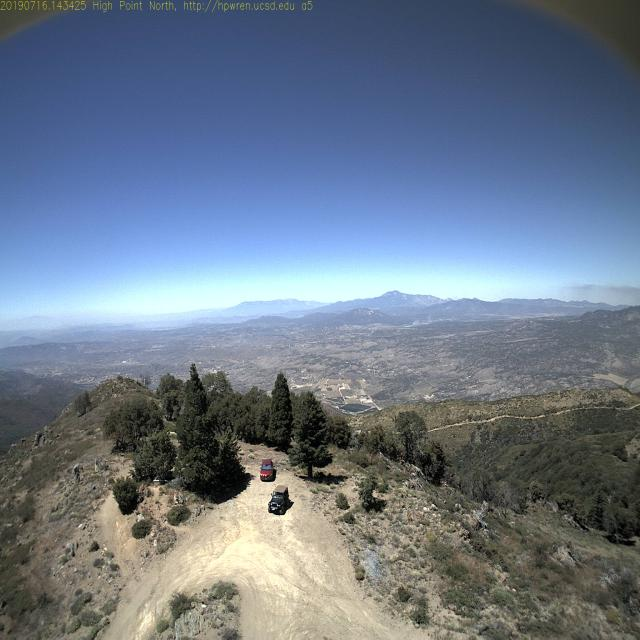smoke: (397, 307, 427, 341)
